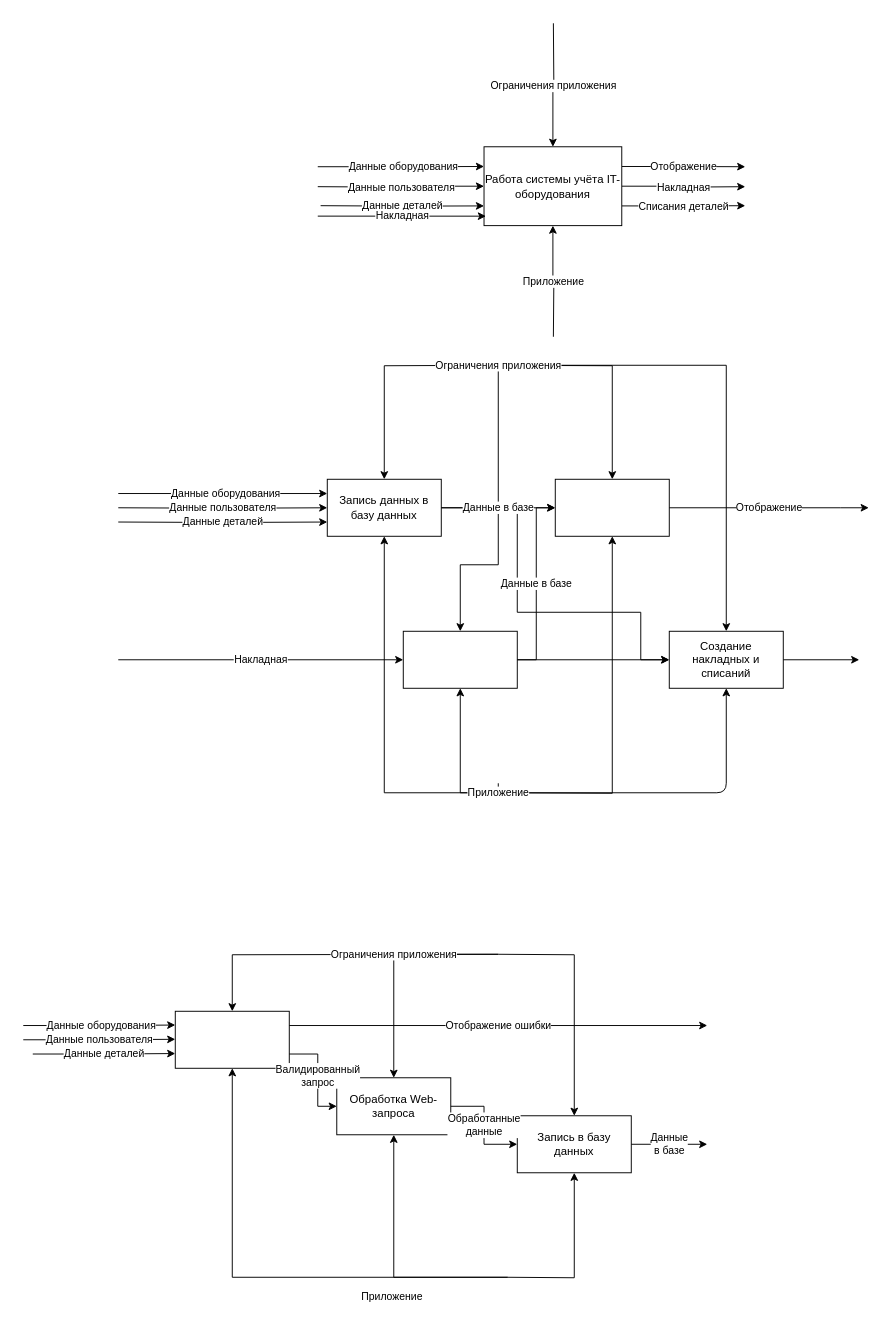
The diagram is 893 pixels wide and 1319 high, and some of its shapes have lost their labels. The centre of each missing label's shape, as x and y in pixels:
Валидация Web-запроса: (231,1039)
Обработка накладных: (459,659)
Отображение данных: (611,507)
